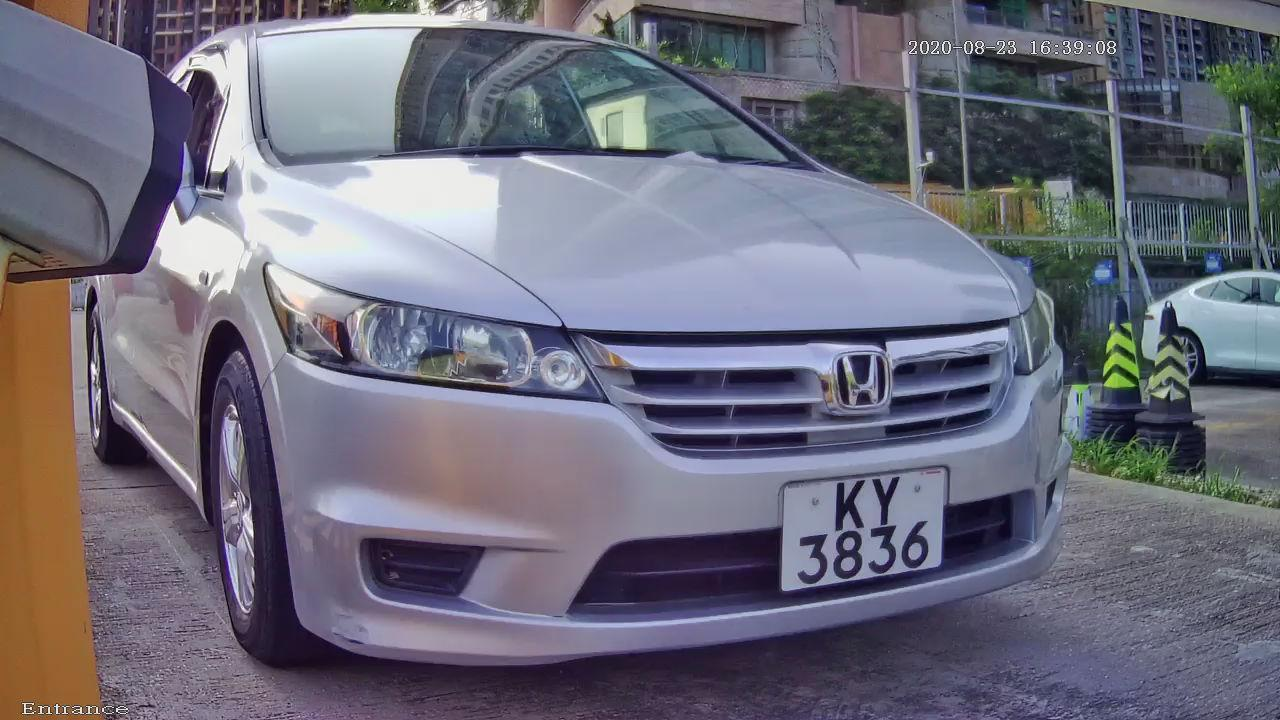License Plate: (761, 460, 955, 602)
